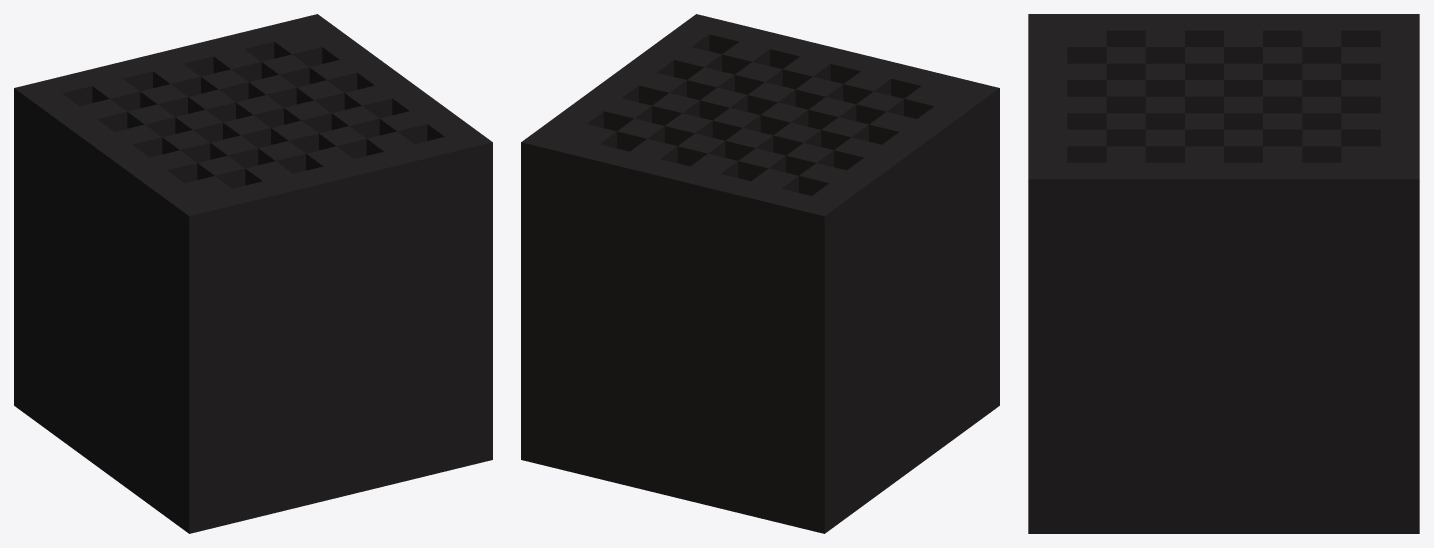
The model's file is trapdoor (closed).obj.
The picture shows the model from 3 angles, left to right: view 1: azimuth 30°, elevation 25°; view 2: azimuth 150°, elevation 25°; view 3: azimuth 270°, elevation 25°; orthographic projection. The views are drawn at different scales.
Size of the model in its own units: 1 by 1 by 1.
1 material, 1 textured.
